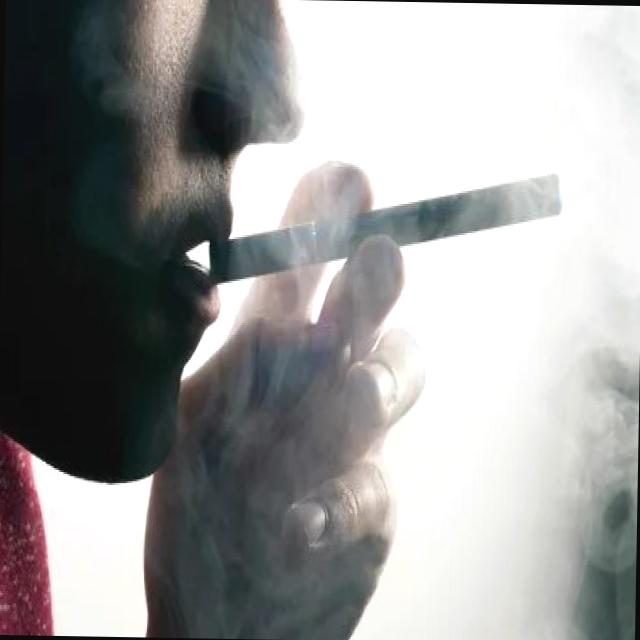smoke: (203, 160, 568, 298)
